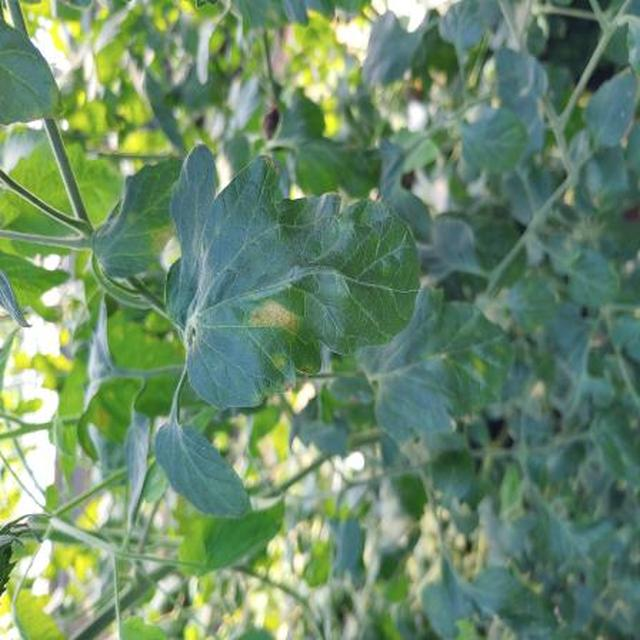Leaf Mold: (235, 203, 599, 591)
